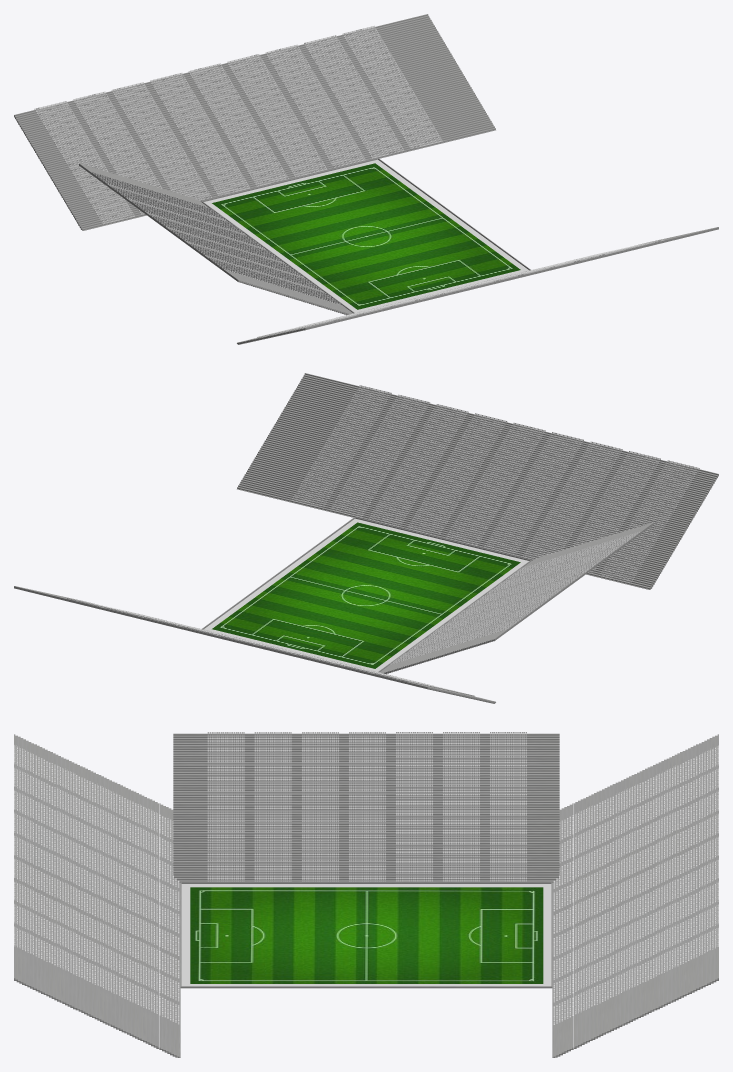
The model's file is スタジアム簡略版.fbx.
3 renders of one model, top to bottom at view 1: azimuth 30°, elevation 25°; view 2: azimuth 150°, elevation 25°; view 3: azimuth 270°, elevation 25°, orthographic. The views are drawn at different scales.
Visible parts, largest first — view 1: 立方体.010, コート（内）, 立方体.020, 立方体.007, 立方体.038, 立方体.039, 立方体.040, 立方体.041, 立方体.009, 立方体.042, 立方体.001, 立方体.012 (+9 smaller); view 2: 立方体.004, コート（内）, 立方体.011, 立方体.035, 立方体.021, 立方体.036, 立方体.037, 立方体.003, 立方体.022, 立方体.005, 立方体.001, 立方体.023 (+9 smaller); view 3: 立方体.001, 立方体.010, 立方体.004, コート（内）, 立方体.018, 立方体.019, 立方体.016, 立方体.017, 立方体.013, 立方体.015, 立方体.014, コート（外） (+20 smaller).
Part boxes in pixels (x1=…): 立方体.010: x1=14, y1=14, x2=495, y2=230; コート（内）: x1=212, y1=163, x2=520, y2=309; 立方体.020: x1=304, y1=35, x2=403, y2=158; 立方体.007: x1=150, y1=73, x2=250, y2=195; 立方体.038: x1=342, y1=25, x2=442, y2=148; 立方体.039: x1=265, y1=44, x2=365, y2=167; 立方体.040: x1=227, y1=54, x2=326, y2=177; 立方体.041: x1=188, y1=63, x2=288, y2=186; 立方体.009: x1=111, y1=82, x2=211, y2=200; 立方体.042: x1=34, y1=101, x2=134, y2=224; 立方体.001: x1=79, y1=163, x2=352, y2=315; 立方体.012: x1=73, y1=91, x2=161, y2=214; 立方体.004: x1=237, y1=373, x2=718, y2=589; コート（内）: x1=212, y1=522, x2=520, y2=668; 立方体.011: x1=291, y1=385, x2=391, y2=508; 立方体.035: x1=407, y1=413, x2=507, y2=536; 立方体.021: x1=330, y1=394, x2=430, y2=517; 立方体.036: x1=445, y1=422, x2=545, y2=545; 立方体.037: x1=368, y1=404, x2=468, y2=527; 立方体.003: x1=484, y1=432, x2=583, y2=555; 立方体.022: x1=522, y1=441, x2=622, y2=559; 立方体.005: x1=599, y1=460, x2=699, y2=583; 立方体.001: x1=380, y1=522, x2=653, y2=674; 立方体.023: x1=572, y1=451, x2=660, y2=574; 立方体.001: x1=173, y1=733, x2=559, y2=883; 立方体.010: x1=552, y1=734, x2=718, y2=1057; 立方体.004: x1=14, y1=734, x2=180, y2=1057; コート（内）: x1=190, y1=887, x2=543, y2=983; 立方体.018: x1=254, y1=732, x2=291, y2=881; 立方体.019: x1=207, y1=732, x2=244, y2=881; 立方体.016: x1=349, y1=732, x2=385, y2=881; 立方体.017: x1=302, y1=732, x2=338, y2=881; 立方体.013: x1=396, y1=732, x2=432, y2=881; 立方体.015: x1=490, y1=732, x2=526, y2=881; 立方体.014: x1=443, y1=732, x2=479, y2=881; コート（外）: x1=181, y1=884, x2=551, y2=986.
Bounding box in the file's own units: 17240 × 2668 × 20980.
